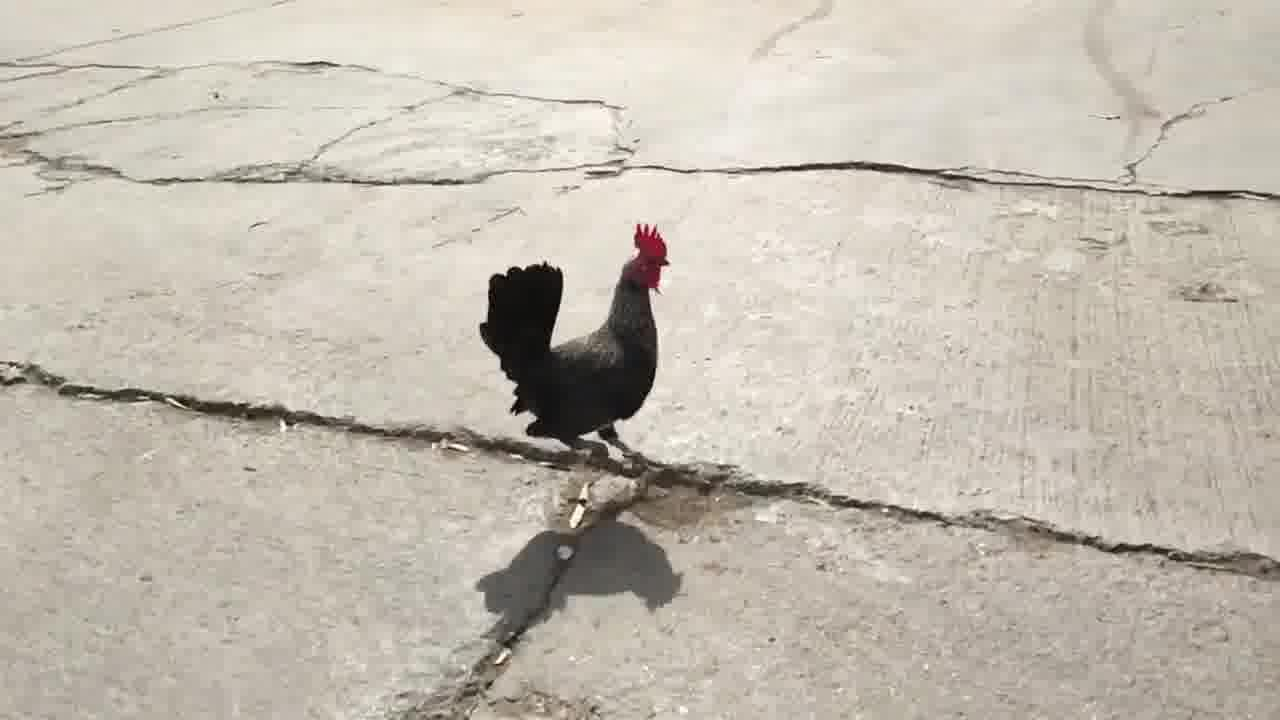Normal: (488, 218, 706, 470)
